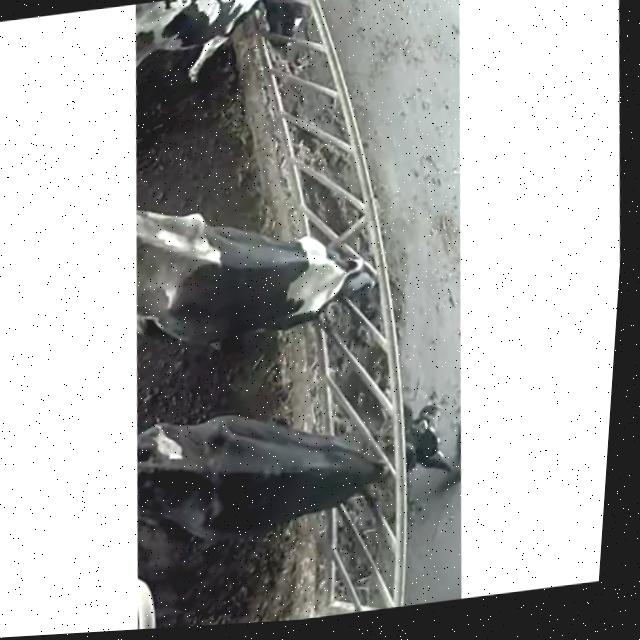eat: (280, 396, 458, 522), (265, 211, 417, 334), (191, 0, 351, 65)
